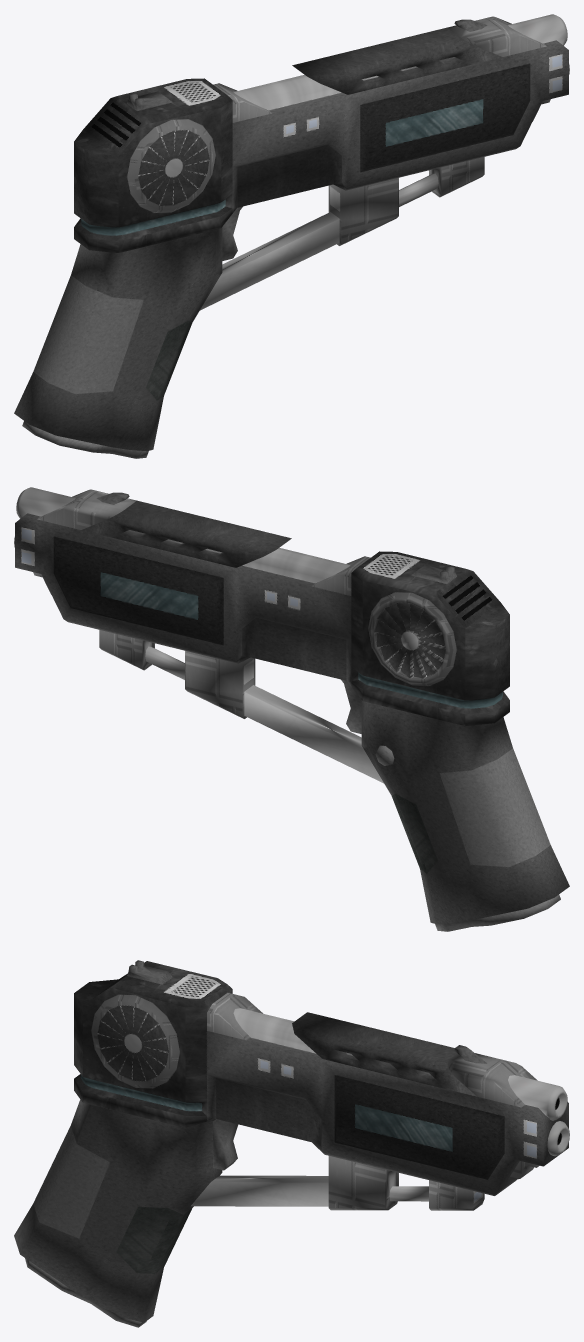
File: pistol.fbx
3 views of the same model, one above another, from view 1: azimuth 30°, elevation 25°; view 2: azimuth 150°, elevation 25°; view 3: azimuth 330°, elevation 25° (orthographic).
Visible parts, largest first — view 1: mesh; view 2: mesh; view 3: mesh.
Part boxes in pixels (bbox=[...]): mesh: bbox=[14, 14, 569, 458]; mesh: bbox=[14, 487, 569, 931]; mesh: bbox=[14, 960, 569, 1327].
Bounding box in the file's own units: 61.15 × 38.79 × 8.
1 material, 1 textured.
